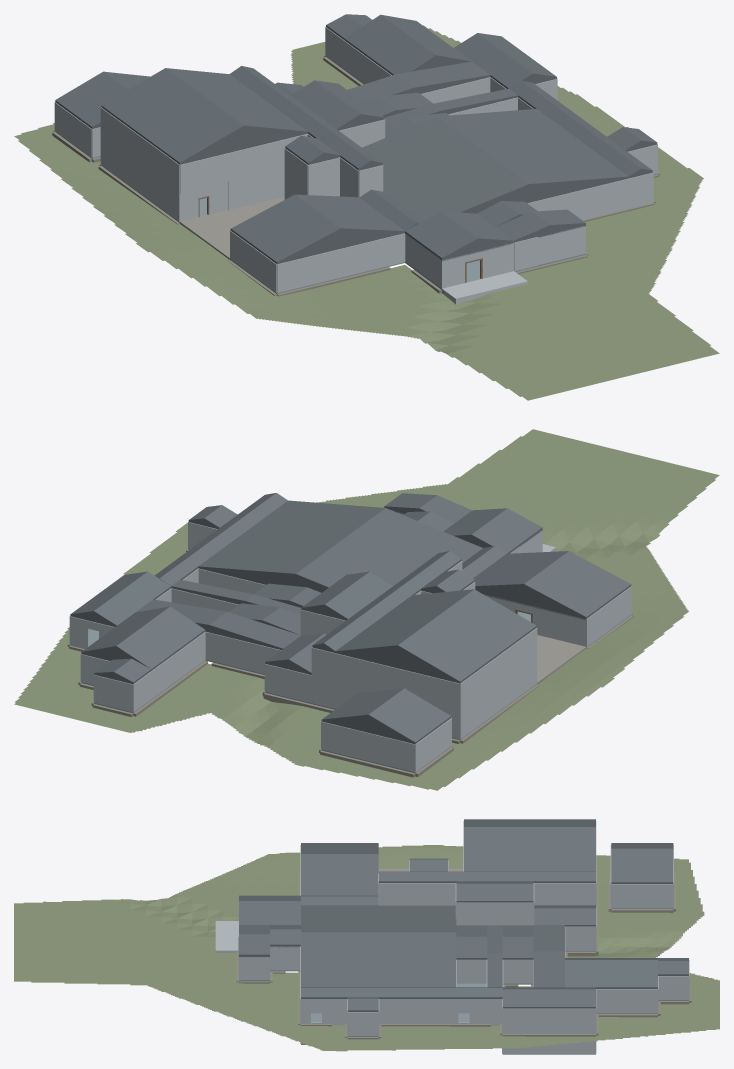
The model's file is constructed-courts.glb.
The picture shows the model from 3 angles, top to bottom: view 1: azimuth 30°, elevation 25°; view 2: azimuth 150°, elevation 25°; view 3: azimuth 270°, elevation 25°; orthographic projection. The views are drawn at different scales.
Visible parts, largest first — view 1: Saved editor macroterrain ASYLUM, clinical-and-dining roof west, clinical-and-dining roof east, two-storey-ward roof west, day-pavilion roof west, Wall day S, two-storey-ward roof east, quiet-pavilion roof west, upper-spine roof west, Wall meal-return S, day-pavilion roof east, service-corridor roof west (+44 smaller); view 2: Saved editor macroterrain ASYLUM, clinical-and-dining roof east, clinical-and-dining roof west, two-storey-ward roof west, day-pavilion roof west, two-storey-ward roof east, quiet-pavilion roof west, Wall chapel N, chapel roof west, upper-spine roof west, service-corridor roof west, day-pavilion roof east (+42 smaller); view 3: Saved editor macroterrain ASYLUM, clinical-and-dining roof east, two-storey-ward roof east, clinical-and-dining roof west, Flat route shell Wall service E, day-pavilion roof east, quiet-pavilion roof east, Wall service-stair E, upper-spine roof east, chapel roof east, service-corridor roof east, service-stair roof east (+31 smaller).
Part boxes in pixels (x1,y1,x2,y2): Saved editor macroterrain ASYLUM: (14,25,719,400); clinical-and-dining roof west: (362,116,528,220); clinical-and-dining roof east: (437,109,628,185); two-storey-ward roof west: (101,68,243,164); day-pavilion roof west: (230,194,340,263); Wall day S: (277,233,405,292); two-storey-ward roof east: (166,68,307,133); quiet-pavilion roof west: (344,15,435,75); upper-spine roof west: (229,66,370,170); Wall meal-return S: (527,178,629,218); day-pavilion roof east: (295,194,404,232); service-corridor roof west: (509,81,640,177); Saved editor macroterrain ASYLUM: (14,429,719,790); clinical-and-dining roof east: (198,500,385,575); clinical-and-dining roof west: (295,508,482,588); two-storey-ward roof west: (398,589,536,683); day-pavilion roof west: (524,551,631,618); two-storey-ward roof east: (335,589,473,652); quiet-pavilion roof west: (116,606,205,669); Wall chapel N: (321,721,415,772); chapel roof west: (368,688,451,743); upper-spine roof west: (324,551,461,652); service-corridor roof west: (159,493,287,585); day-pavilion roof east: (473,551,568,587); Saved editor macroterrain ASYLUM: (14,845,719,1051); clinical-and-dining roof east: (301,932,456,987); two-storey-ward roof east: (464,827,595,871); clinical-and-dining roof west: (301,905,456,932); Flat route shell Wall service E: (322,999,501,1022); day-pavilion roof east: (301,854,378,895); quiet-pavilion roof east: (565,960,657,988); Wall service-stair E: (502,1008,595,1032); upper-spine roof east: (378,872,595,882); chapel roof east: (611,848,673,883); service-corridor roof east: (301,988,502,998); service-stair roof east: (502,989,595,1008).
Size of the model in its own units: 62 by 12.8 by 91.
28 materials, 16 textured.
